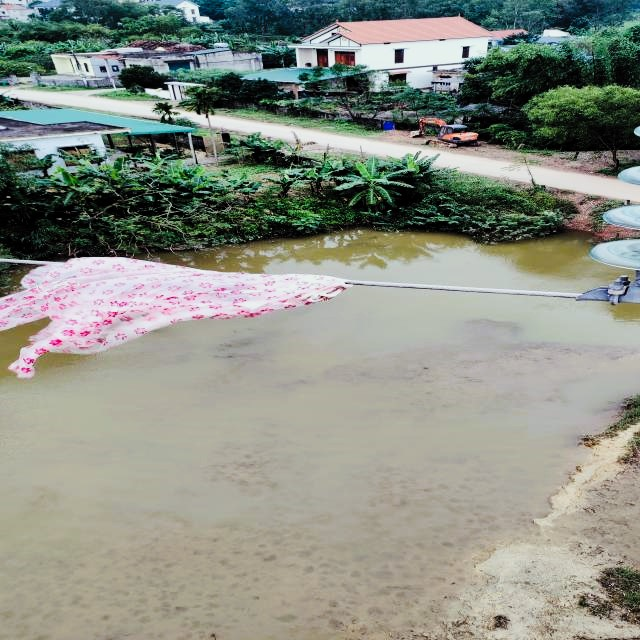wire foreign body: (19, 238, 357, 384)
